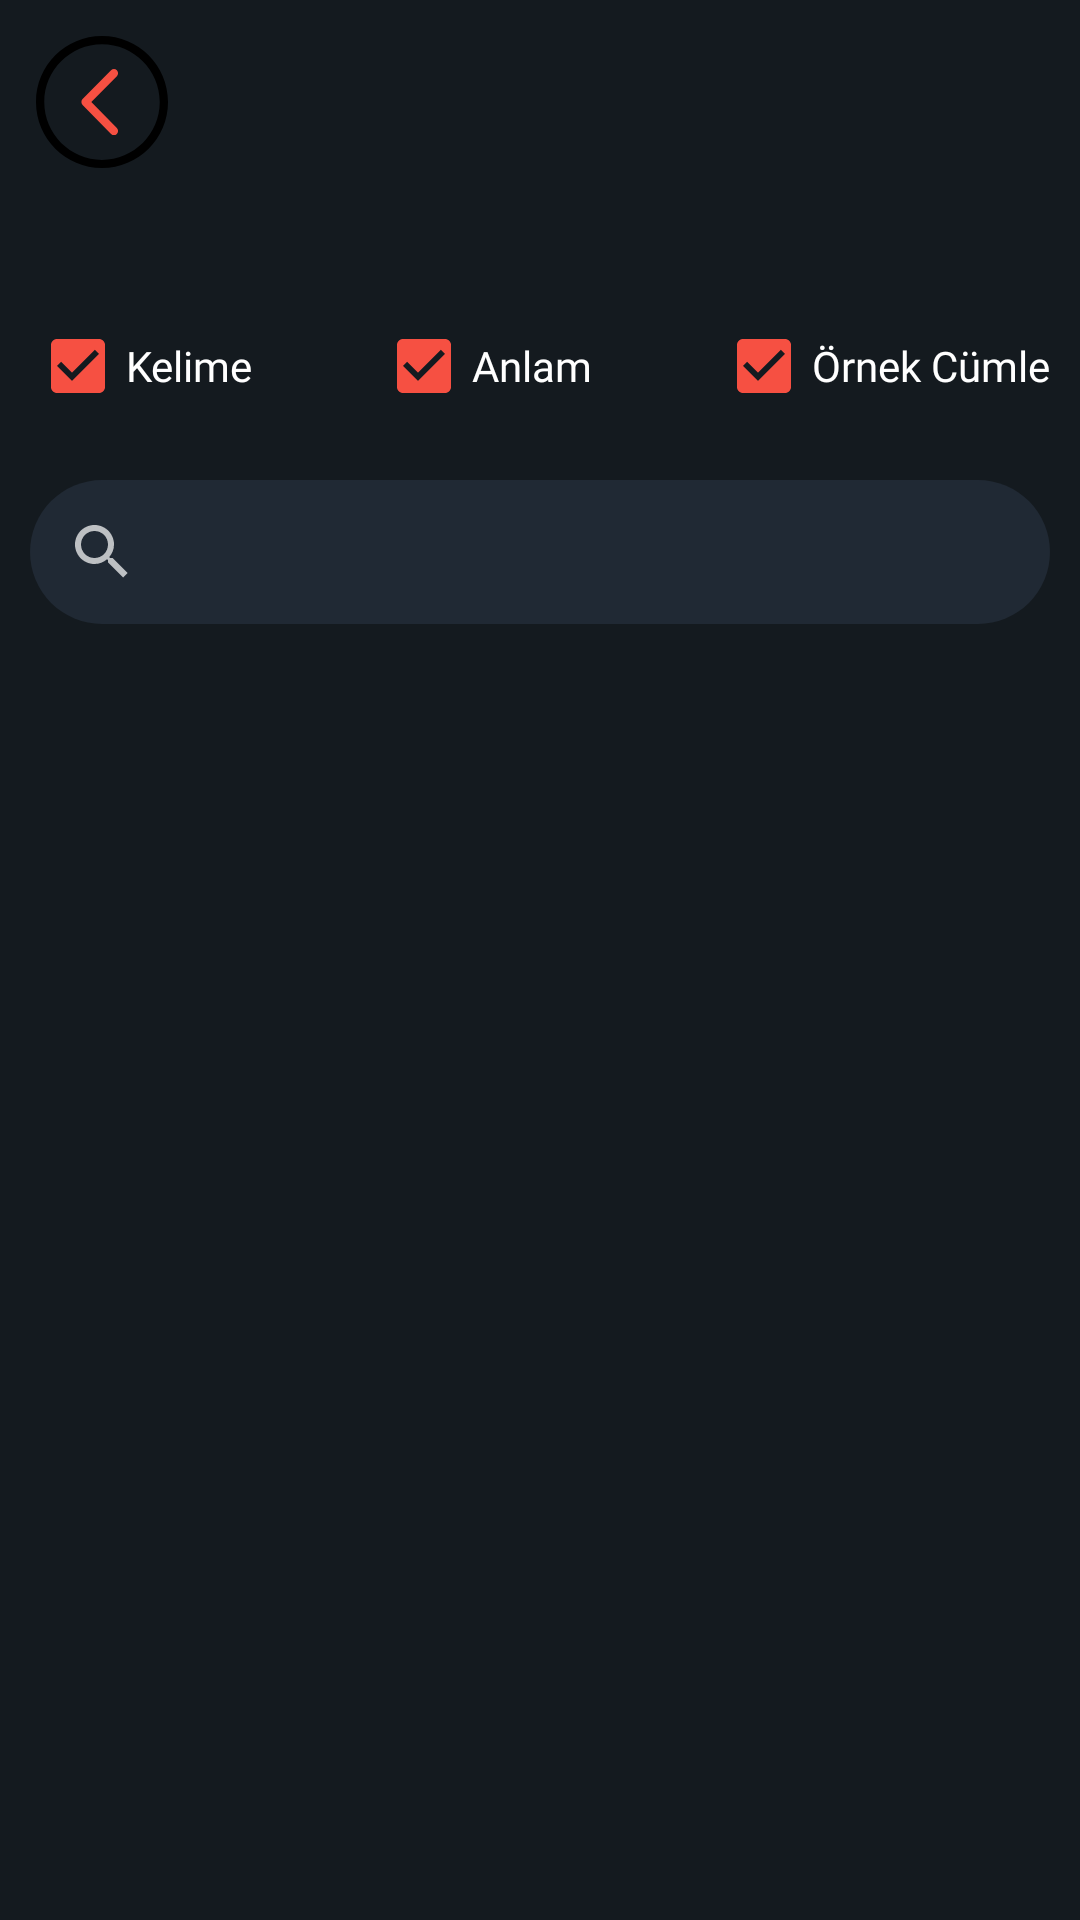

Where to tap for icons on this 1080 x 1920 app screen, as [x,y]:
back: [102,102]
